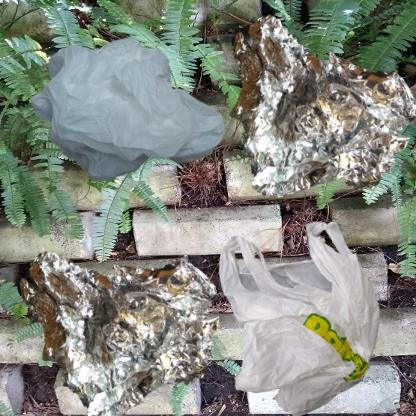aluminio: (10, 213, 249, 416), (213, 10, 416, 216)
bolsa: (10, 10, 278, 249), (213, 213, 398, 416)
